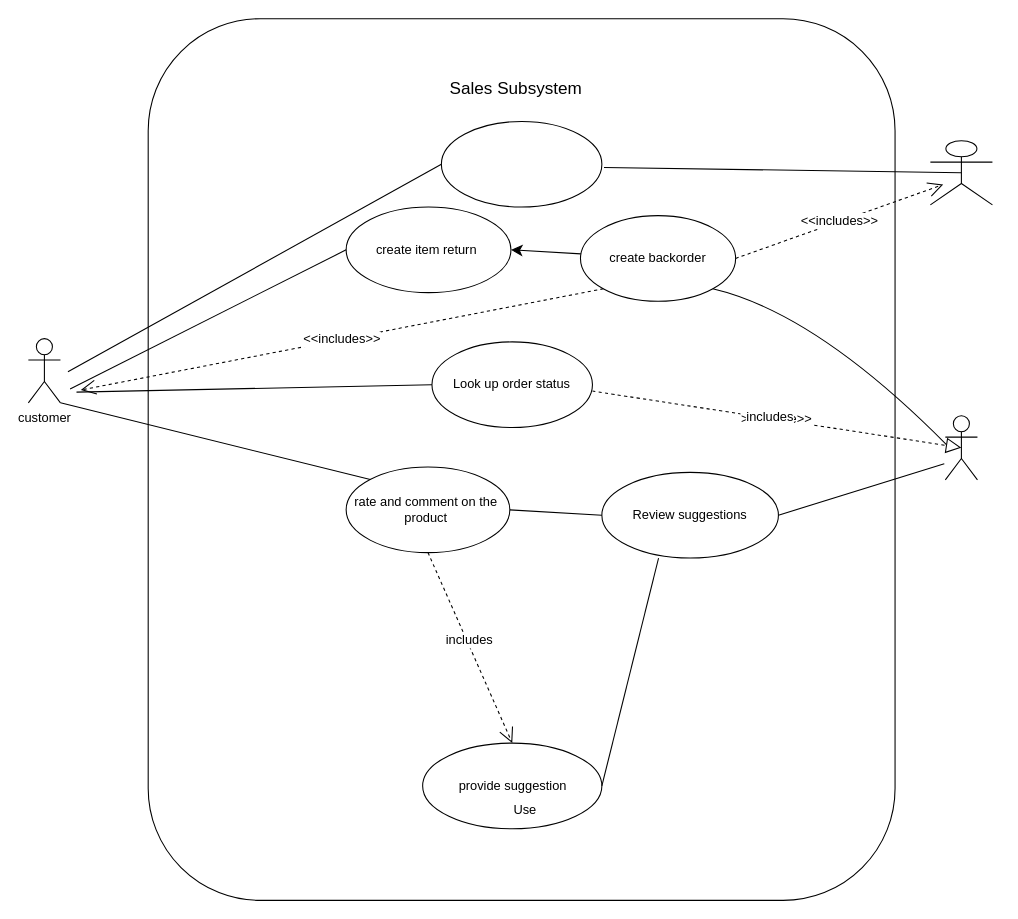
The diagram is 1018 pixels wide and 919 high, and some of its shapes have lost their labels. Each missing label, with the centre of its shape:
management: the point at 960,447
shipping: the point at 960,172
track shipment: the point at 521,163
